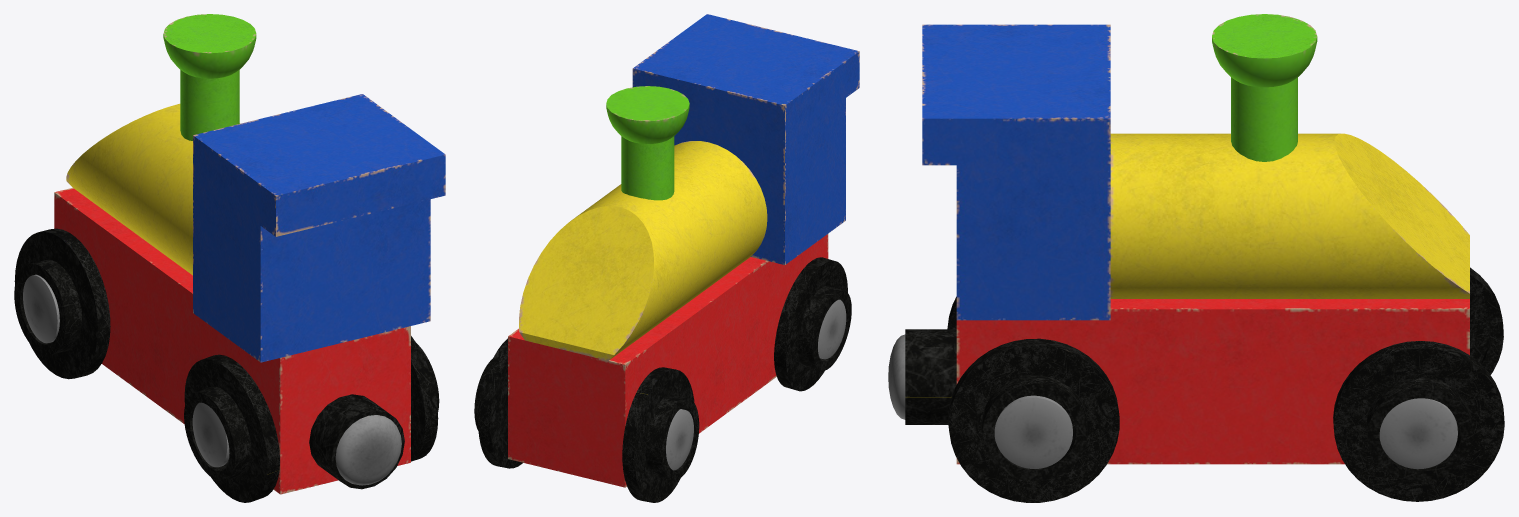
Rendered from toy_train_freebie.glb.
The picture shows the model from 3 angles, left to right: view 1: azimuth 30°, elevation 25°; view 2: azimuth 150°, elevation 25°; view 3: azimuth 270°, elevation 25°; orthographic projection. The views are drawn at different scales.
Parts seen in each view (by area): view 1: g (×8); view 2: g (×6); view 3: g (×8).
Boxes of the visible parts, box(x1,y1,x2,y2) form: g (×8): box(14, 14, 445, 502); g (×6): box(474, 14, 859, 502); g (×8): box(888, 14, 1504, 502).
Size of the model in its own units: 0.9025 by 1.5 by 2.
Materials: 1 (1 with a texture image).
